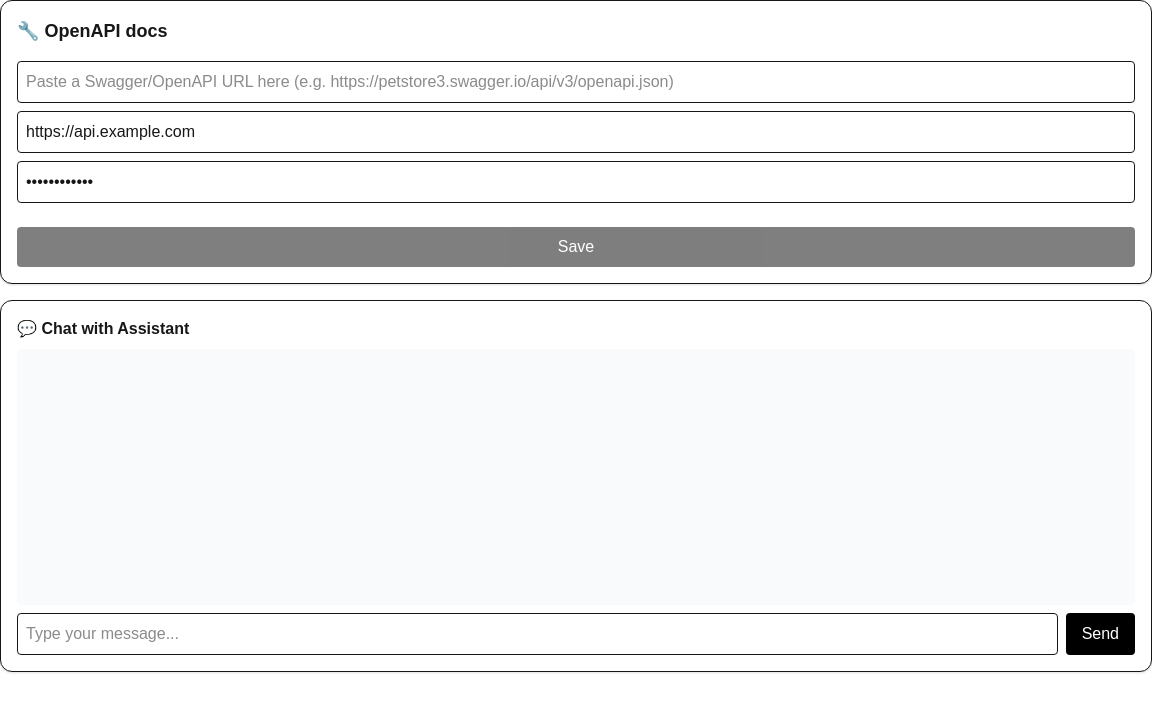
Scenario: ChatWindow › handles user input and sends messages
The image size is (1152, 720).
(page scrolled)
Type a message
Type "Hello" into the field with placeholder "Type your message..." at coordinates (537, 634), box left=17, top=613, right=1058, bottom=655
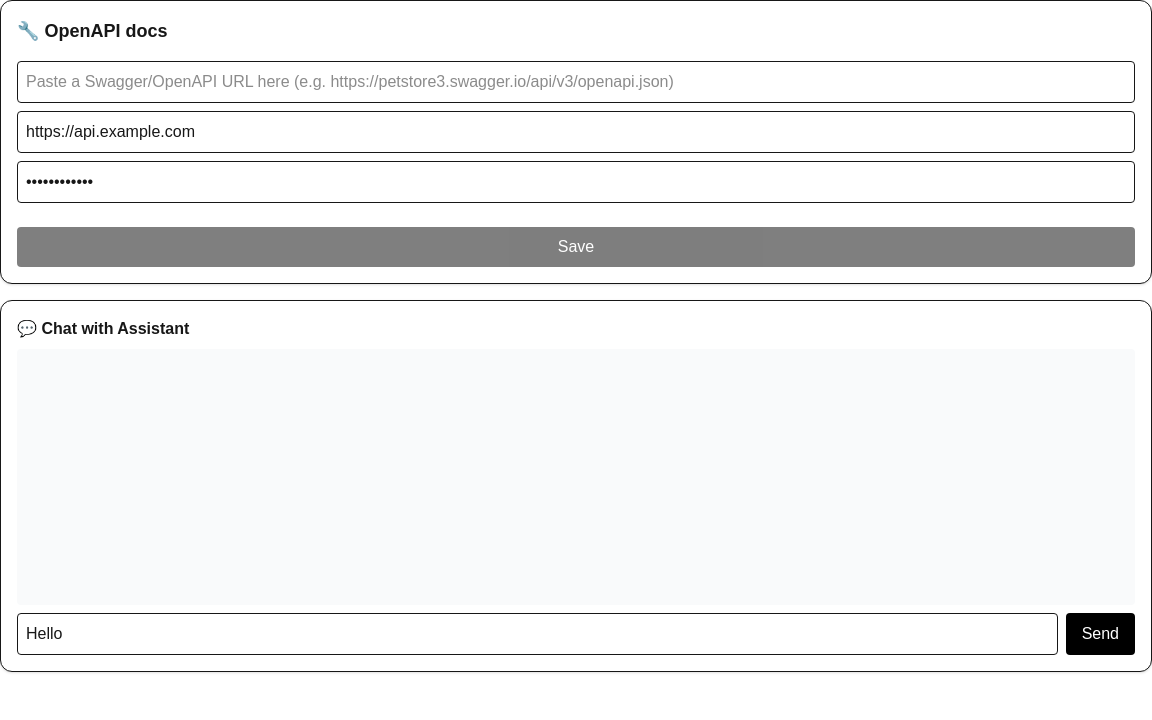
Send message
Click the button named "Send message" at coordinates (1100, 634), box left=1066, top=613, right=1135, bottom=655
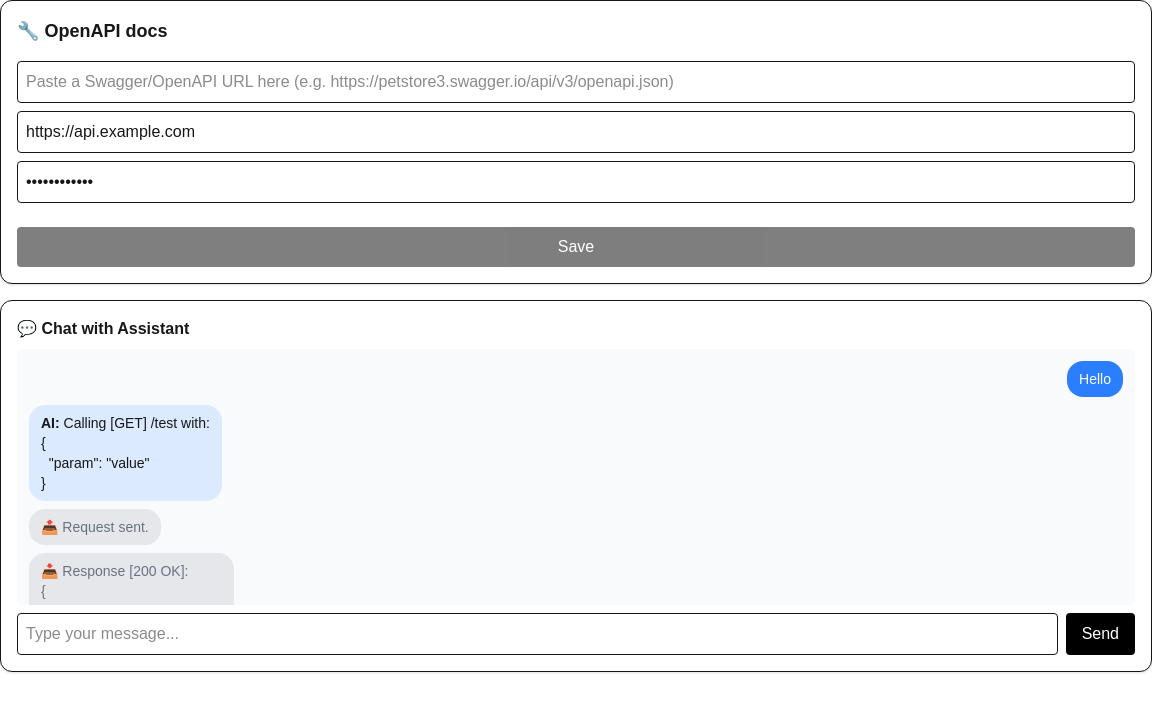
Now the field with placeholder "Type your message..." is empty, box left=17, top=613, right=1058, bottom=655
Now the text "Hello" is shown, box left=1067, top=361, right=1123, bottom=397
Now the text "📤 Request sent." is shown, box left=29, top=509, right=161, bottom=545
